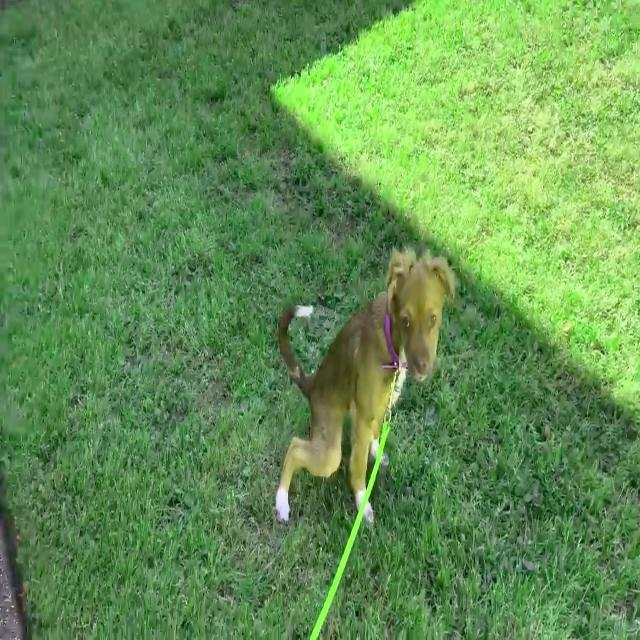Dog: (275, 242, 456, 527)
